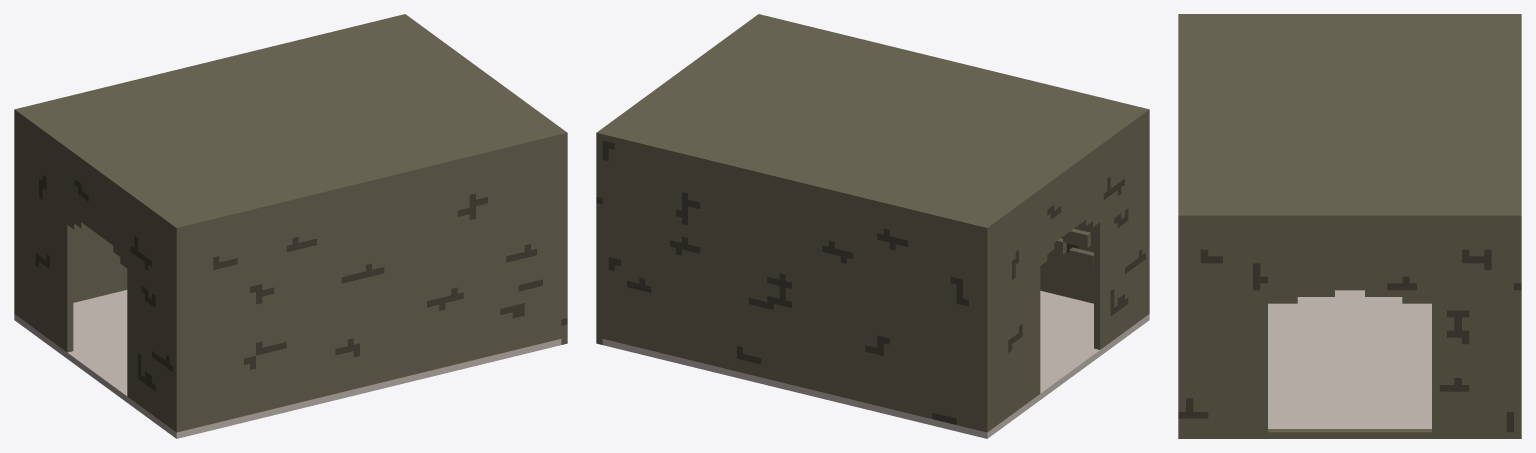
Rendered from fossilHallway.gltf.
3 views of the same model, side by side, from view 1: azimuth 30°, elevation 25°; view 2: azimuth 150°, elevation 25°; view 3: azimuth 270°, elevation 25° (orthographic). The views are drawn at different scales.
Parts seen in each view (by area): view 1: Layer.2, Floor, Layer.1; view 2: Layer.2, Layer.1, Floor; view 3: Layer.2, Layer.1, Floor.
Part boxes in pixels (left/top/right/bottom): Layer.2: left=14, top=14, right=567, bottom=432; Floor: left=14, top=290, right=561, bottom=438; Layer.1: left=14, top=139, right=567, bottom=344; Layer.2: left=596, top=14, right=1149, bottom=421; Layer.1: left=596, top=139, right=1001, bottom=432; Floor: left=602, top=290, right=1149, bottom=438; Layer.2: left=1178, top=14, right=1521, bottom=222; Layer.1: left=1178, top=222, right=1521, bottom=438; Floor: left=1268, top=290, right=1431, bottom=428.
Size of the model in its own units: 64 by 33 by 46.
Materials: 1 (1 with a texture image).
